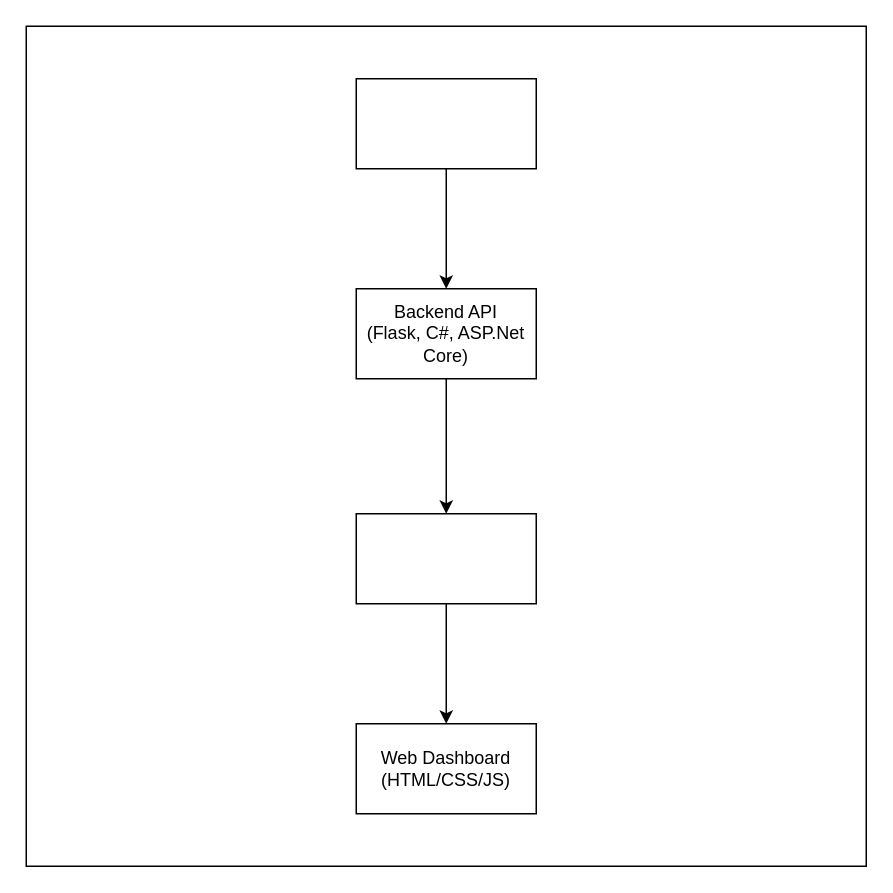
Image size: 893x893. Some labels were removed from this diagram. Each missing label, with the centre of its shape:
Data Source (Dataset): pixel 445 123
SQL Database (MySQL): pixel 445 558
